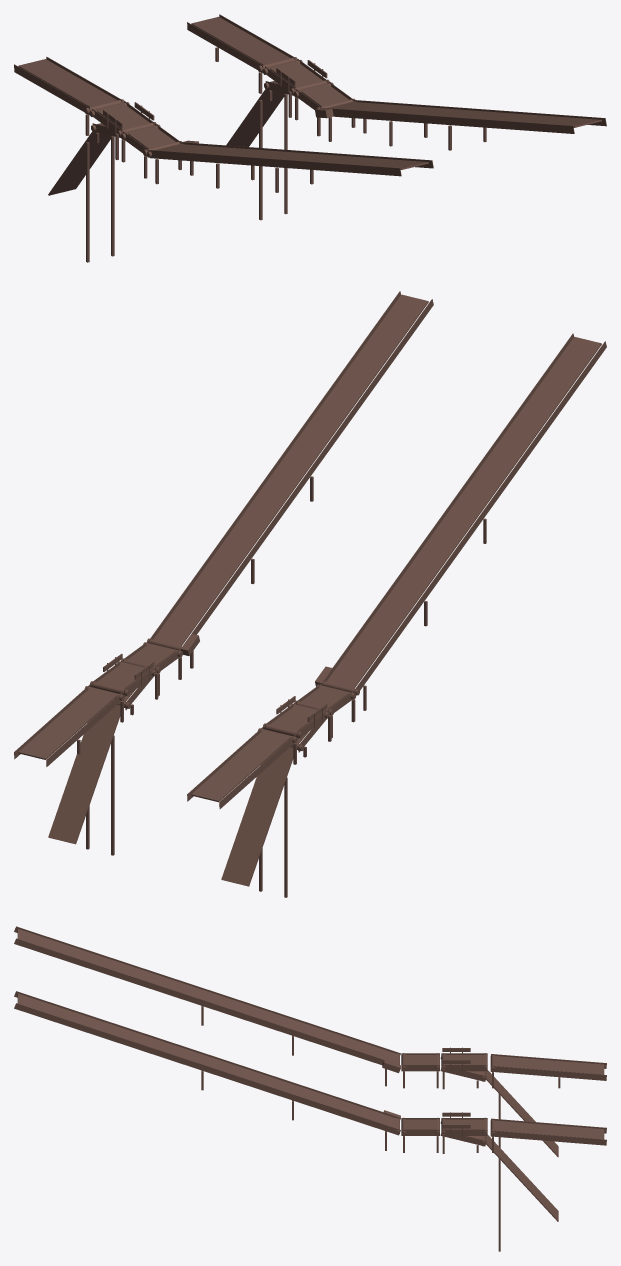
Rendered from GCC-AAV-13220-30.nwd(99).fbx.
3 renders of one model, top to bottom at view 1: azimuth 30°, elevation 25°; view 2: azimuth 150°, elevation 25°; view 3: azimuth 270°, elevation 25°, orthographic. The views are drawn at different scales.
Visible parts, largest first — view 1: BOX 13 of SUBEQUIPMENT 41 of EQUIPMENT /721-U-102, BOX 13 of SUBEQUIPMENT 57 of EQUIPMENT /721-U-101, BOX 1 of SUBEQUIPMENT 57 of EQUIPMENT /721-U-101, BOX 2 of SUBEQUIPMENT 41 of EQUIPMENT /721-U-102, BOX 9 of SUBEQUIPMENT 44 of EQUIPMENT /721-U-102, BOX 9 of SUBEQUIPMENT 60 of EQUIPMENT /721-U-101, BOX 13 of SUBEQUIPMENT /721-U-101-X-006, BOX 13 of SUBEQUIPMENT /721-U-102-X-006, BOX 2 of SUBEQUIPMENT 57 of EQUIPMENT /721-U-101, BOX 1 of SUBEQUIPMENT 41 of EQUIPMENT /721-U-102, BOX 10 of SUBEQUIPMENT /721-U-102-X-006, BOX 10 of SUBEQUIPMENT /721-U-101-X-006 (+8 smaller); view 2: BOX 13 of SUBEQUIPMENT 57 of EQUIPMENT /721-U-101, BOX 13 of SUBEQUIPMENT 41 of EQUIPMENT /721-U-102, BOX 13 of SUBEQUIPMENT /721-U-101-X-006, BOX 13 of SUBEQUIPMENT /721-U-102-X-006, BOX 9 of SUBEQUIPMENT 44 of EQUIPMENT /721-U-102, BOX 9 of SUBEQUIPMENT 60 of EQUIPMENT /721-U-101, BOX 1 of SUBEQUIPMENT 57 of EQUIPMENT /721-U-101, BOX 2 of SUBEQUIPMENT 41 of EQUIPMENT /721-U-102, BOX 1 of SUBEQUIPMENT 41 of EQUIPMENT /721-U-102, BOX 2 of SUBEQUIPMENT 57 of EQUIPMENT /721-U-101; view 3: BOX 13 of SUBEQUIPMENT 41 of EQUIPMENT /721-U-102, BOX 13 of SUBEQUIPMENT 57 of EQUIPMENT /721-U-101, BOX 1 of SUBEQUIPMENT 41 of EQUIPMENT /721-U-102, BOX 2 of SUBEQUIPMENT 57 of EQUIPMENT /721-U-101, BOX 9 of SUBEQUIPMENT 44 of EQUIPMENT /721-U-102, BOX 9 of SUBEQUIPMENT 60 of EQUIPMENT /721-U-101, BOX 1 of SUBEQUIPMENT 57 of EQUIPMENT /721-U-101, BOX 2 of SUBEQUIPMENT 41 of EQUIPMENT /721-U-102, BOX 13 of SUBEQUIPMENT /721-U-102-X-006, BOX 2 of SUBEQUIPMENT 44 of EQUIPMENT /721-U-102, BOX 1 of SUBEQUIPMENT 60 of EQUIPMENT /721-U-101, BOX 13 of SUBEQUIPMENT /721-U-101-X-006.
Part boxes in pixels (bbox=[...]): BOX 13 of SUBEQUIPMENT 41 of EQUIPMENT /721-U-102: bbox=[328, 102, 601, 127]; BOX 13 of SUBEQUIPMENT 57 of EQUIPMENT /721-U-101: bbox=[155, 144, 428, 169]; BOX 1 of SUBEQUIPMENT 57 of EQUIPMENT /721-U-101: bbox=[148, 150, 401, 176]; BOX 2 of SUBEQUIPMENT 41 of EQUIPMENT /721-U-102: bbox=[323, 108, 574, 133]; BOX 9 of SUBEQUIPMENT 44 of EQUIPMENT /721-U-102: bbox=[191, 16, 290, 64]; BOX 9 of SUBEQUIPMENT 60 of EQUIPMENT /721-U-101: bbox=[18, 59, 117, 107]; BOX 13 of SUBEQUIPMENT /721-U-101-X-006: bbox=[48, 131, 111, 195]; BOX 13 of SUBEQUIPMENT /721-U-102-X-006: bbox=[226, 89, 285, 146]; BOX 2 of SUBEQUIPMENT 57 of EQUIPMENT /721-U-101: bbox=[180, 142, 433, 168]; BOX 1 of SUBEQUIPMENT 41 of EQUIPMENT /721-U-102: bbox=[353, 100, 606, 126]; BOX 10 of SUBEQUIPMENT /721-U-102-X-006: bbox=[269, 61, 322, 87]; BOX 10 of SUBEQUIPMENT /721-U-101-X-006: bbox=[96, 103, 149, 129]; BOX 13 of SUBEQUIPMENT 57 of EQUIPMENT /721-U-101: bbox=[326, 336, 601, 688]; BOX 13 of SUBEQUIPMENT 41 of EQUIPMENT /721-U-102: bbox=[153, 294, 428, 646]; BOX 13 of SUBEQUIPMENT /721-U-101-X-006: bbox=[221, 745, 293, 886]; BOX 13 of SUBEQUIPMENT /721-U-102-X-006: bbox=[48, 703, 120, 844]; BOX 9 of SUBEQUIPMENT 44 of EQUIPMENT /721-U-102: bbox=[18, 687, 117, 759]; BOX 9 of SUBEQUIPMENT 60 of EQUIPMENT /721-U-101: bbox=[191, 730, 290, 802]; BOX 1 of SUBEQUIPMENT 57 of EQUIPMENT /721-U-101: bbox=[354, 341, 606, 693]; BOX 2 of SUBEQUIPMENT 41 of EQUIPMENT /721-U-102: bbox=[180, 299, 433, 650]; BOX 1 of SUBEQUIPMENT 41 of EQUIPMENT /721-U-102: bbox=[148, 291, 400, 643]; BOX 2 of SUBEQUIPMENT 57 of EQUIPMENT /721-U-101: bbox=[321, 333, 573, 685]; BOX 13 of SUBEQUIPMENT 41 of EQUIPMENT /721-U-102: bbox=[17, 993, 398, 1128]; BOX 13 of SUBEQUIPMENT 57 of EQUIPMENT /721-U-101: bbox=[17, 929, 398, 1064]; BOX 1 of SUBEQUIPMENT 41 of EQUIPMENT /721-U-102: bbox=[14, 1003, 400, 1135]; BOX 2 of SUBEQUIPMENT 57 of EQUIPMENT /721-U-101: bbox=[14, 938, 400, 1065]; BOX 9 of SUBEQUIPMENT 44 of EQUIPMENT /721-U-102: bbox=[493, 1120, 604, 1139]; BOX 9 of SUBEQUIPMENT 60 of EQUIPMENT /721-U-101: bbox=[493, 1055, 604, 1074]; BOX 1 of SUBEQUIPMENT 57 of EQUIPMENT /721-U-101: bbox=[14, 926, 400, 1055]; BOX 2 of SUBEQUIPMENT 41 of EQUIPMENT /721-U-102: bbox=[14, 991, 400, 1119]; BOX 13 of SUBEQUIPMENT /721-U-102-X-006: bbox=[486, 1135, 558, 1221]; BOX 2 of SUBEQUIPMENT 44 of EQUIPMENT /721-U-102: bbox=[490, 1130, 606, 1145]; BOX 1 of SUBEQUIPMENT 60 of EQUIPMENT /721-U-101: bbox=[490, 1066, 606, 1080]; BOX 13 of SUBEQUIPMENT /721-U-101-X-006: bbox=[486, 1070, 558, 1156].
Size of the model in its own units: 186 by 269 by 580.
